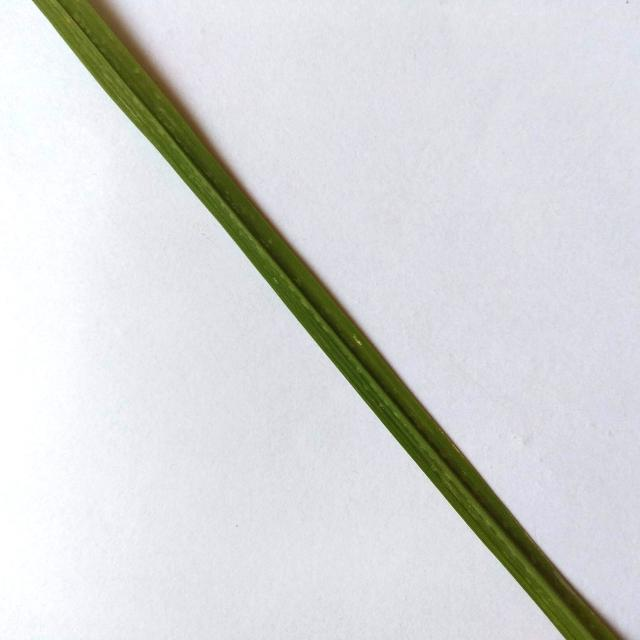Rice_Healthy: (33, 0, 619, 640)
